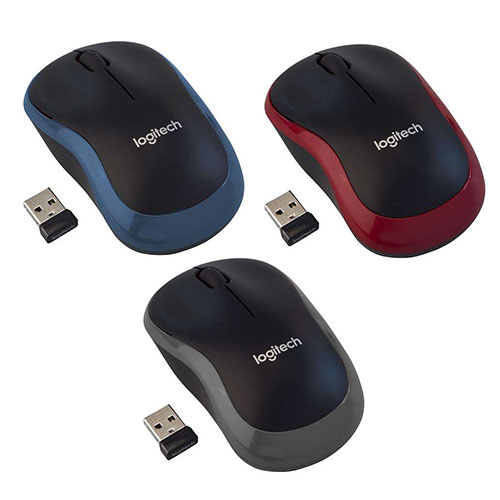logitech-mouse-m185: (136, 256, 384, 472), (249, 40, 486, 252), (24, 43, 243, 257)
